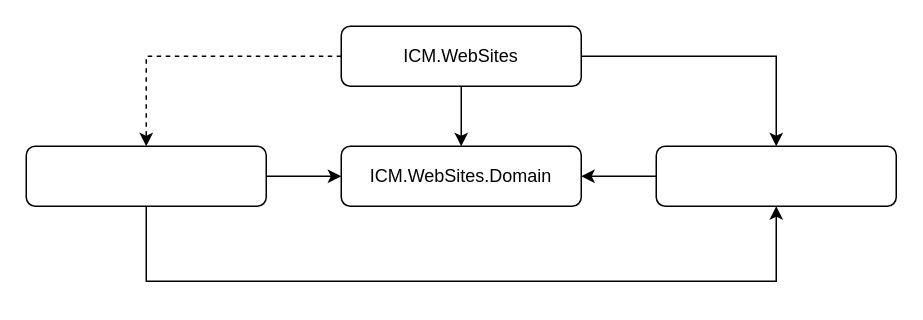
Image size: 923x320. Some labels were removed from this diagram. The box of each missing label's shape, as (x1, y1, x2, y2) in pixels:
ICM.WebSites.Application: (655, 145, 896, 206)
ICM.WebSites.Infrastructure: (25, 145, 266, 206)
